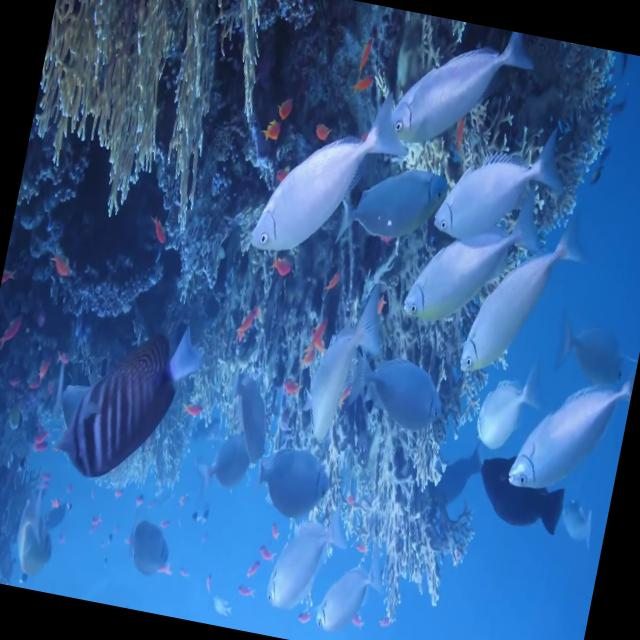fish: (248, 84, 398, 270), (399, 176, 548, 347), (52, 320, 196, 488), (458, 208, 584, 388), (378, 15, 530, 164), (508, 355, 636, 506), (428, 128, 560, 256), (299, 297, 390, 448), (332, 158, 452, 262), (262, 492, 354, 620), (344, 351, 452, 440), (470, 454, 570, 538), (312, 540, 388, 640), (251, 445, 338, 524), (471, 361, 542, 456), (220, 362, 282, 460), (8, 489, 62, 581), (124, 516, 176, 578)
